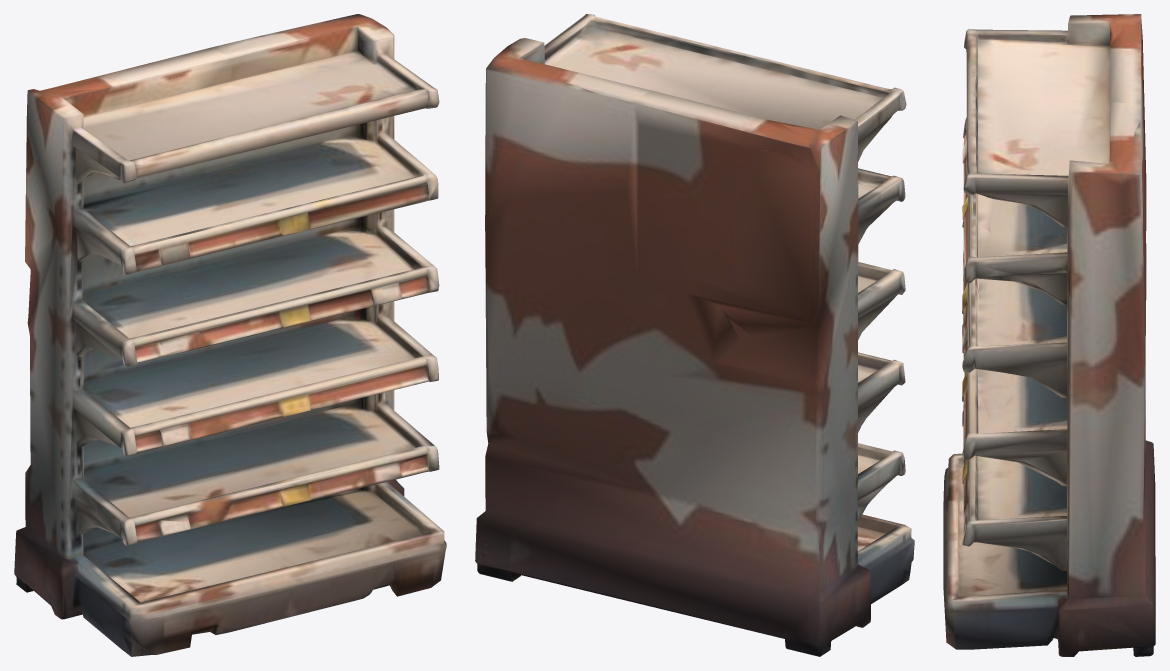
Rendered from huojia-2.glb.
3 renders of one model, left to right at view 1: azimuth 30°, elevation 25°; view 2: azimuth 150°, elevation 25°; view 3: azimuth 270°, elevation 25°, orthographic. The views are drawn at different scales.
Parts seen in each view (by area): view 1: node_0; view 2: node_0; view 3: node_0.
Part boxes in pixels (box(x1,y1,x2,y2)): node_0: box(14, 14, 446, 656); node_0: box(475, 14, 914, 656); node_0: box(943, 14, 1155, 656).
Size of the model in its own units: 0.6764 by 0.9408 by 0.3727.
1 material, 1 textured.
